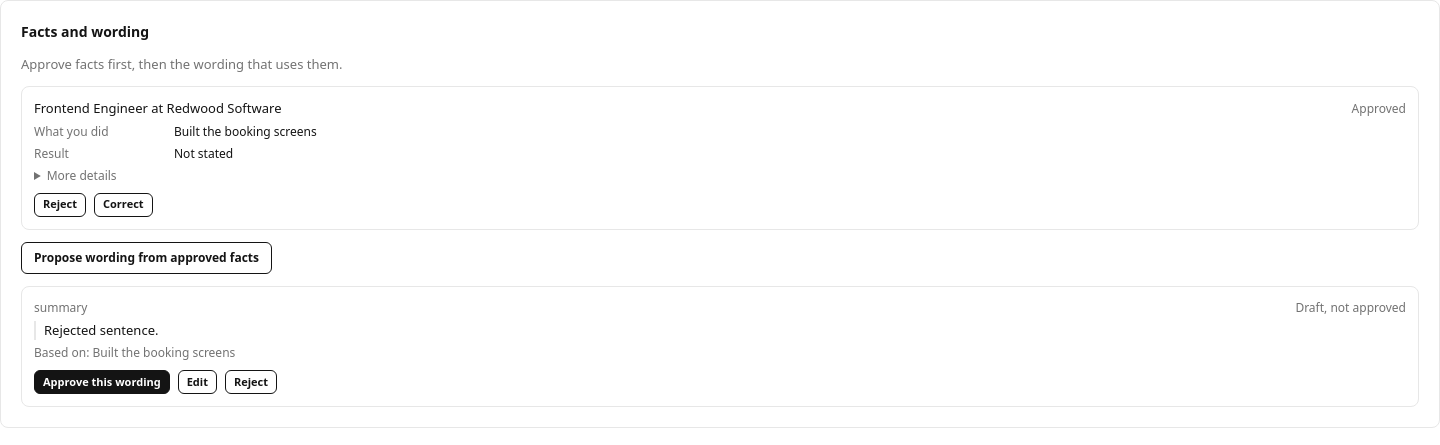
Test case: EvidenceReview (#419, step 7) › rejects a wording and records it in the history
Click the button "Reject" below "summary".
click(251, 382)  # box [225,370,277,394]
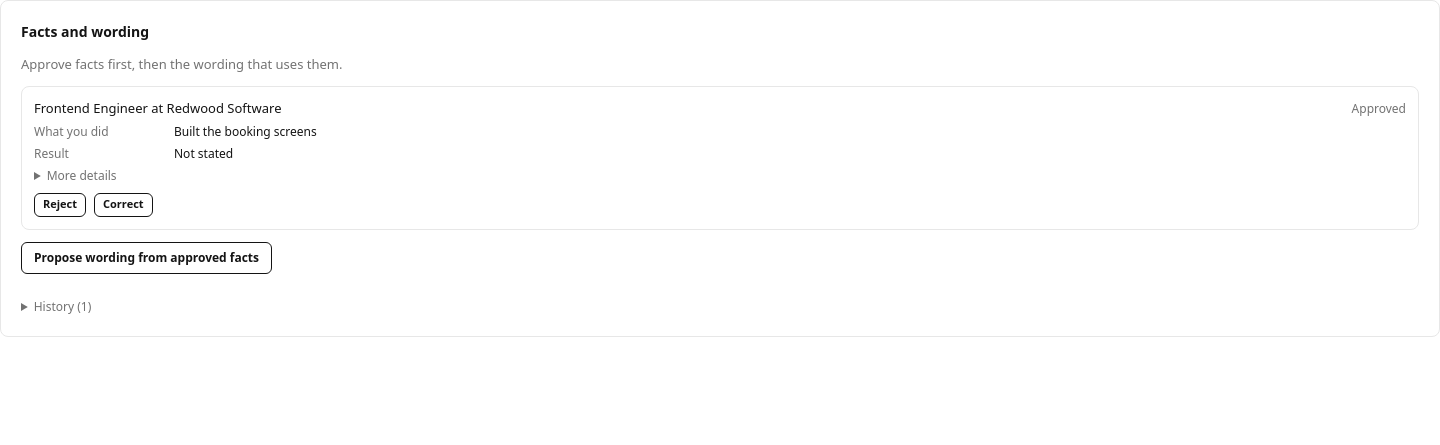
Click the heading "History (1)".
click(62, 306)  # box [34,298,91,315]
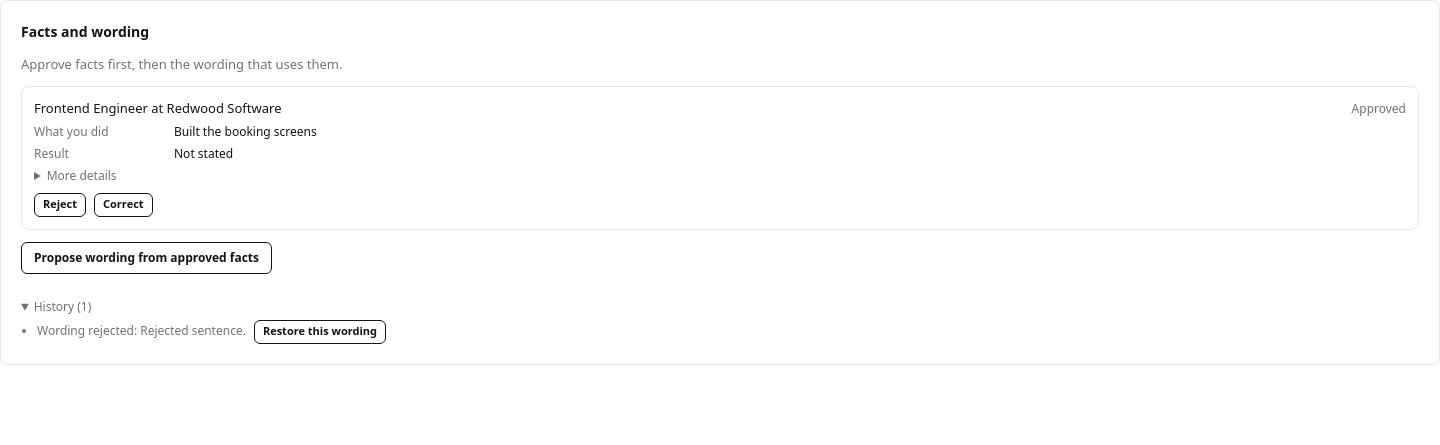
Now the list item "Wording rejected: Rejected sentence. Restore this wording" is shown, box [37,320,386,344]
